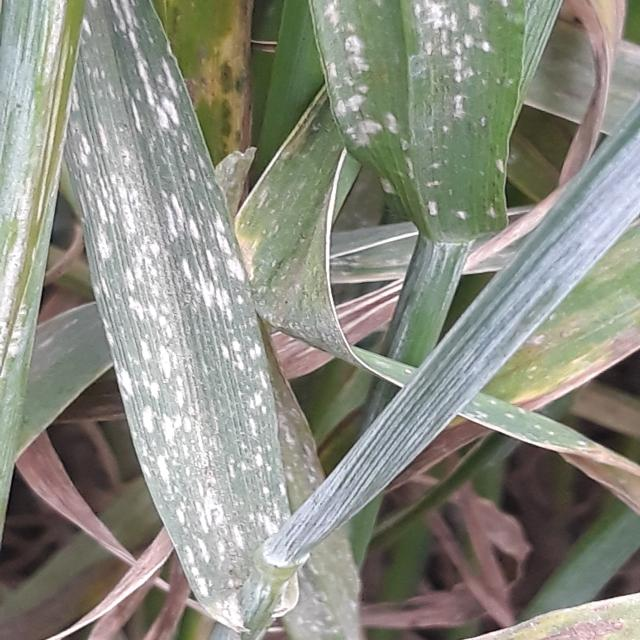powder_mildew: (0, 0, 368, 640), (283, 0, 523, 389), (459, 218, 639, 508), (537, 0, 634, 209), (455, 580, 639, 640)
